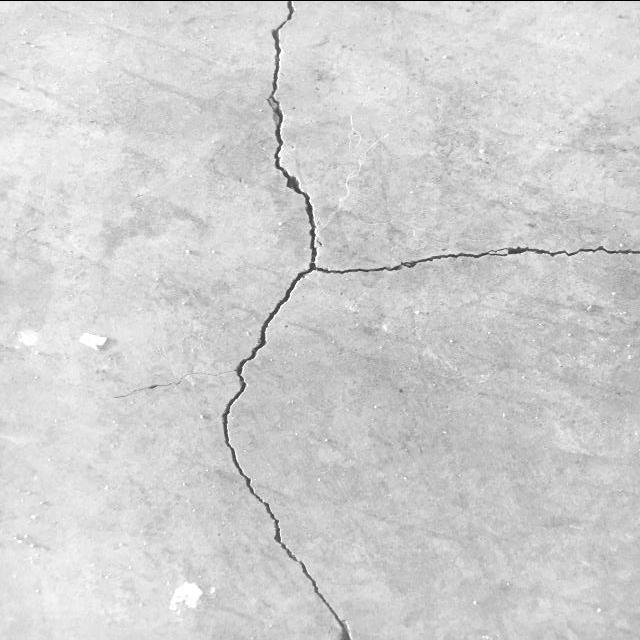SurfaceCrack: (190, 1, 372, 640)
